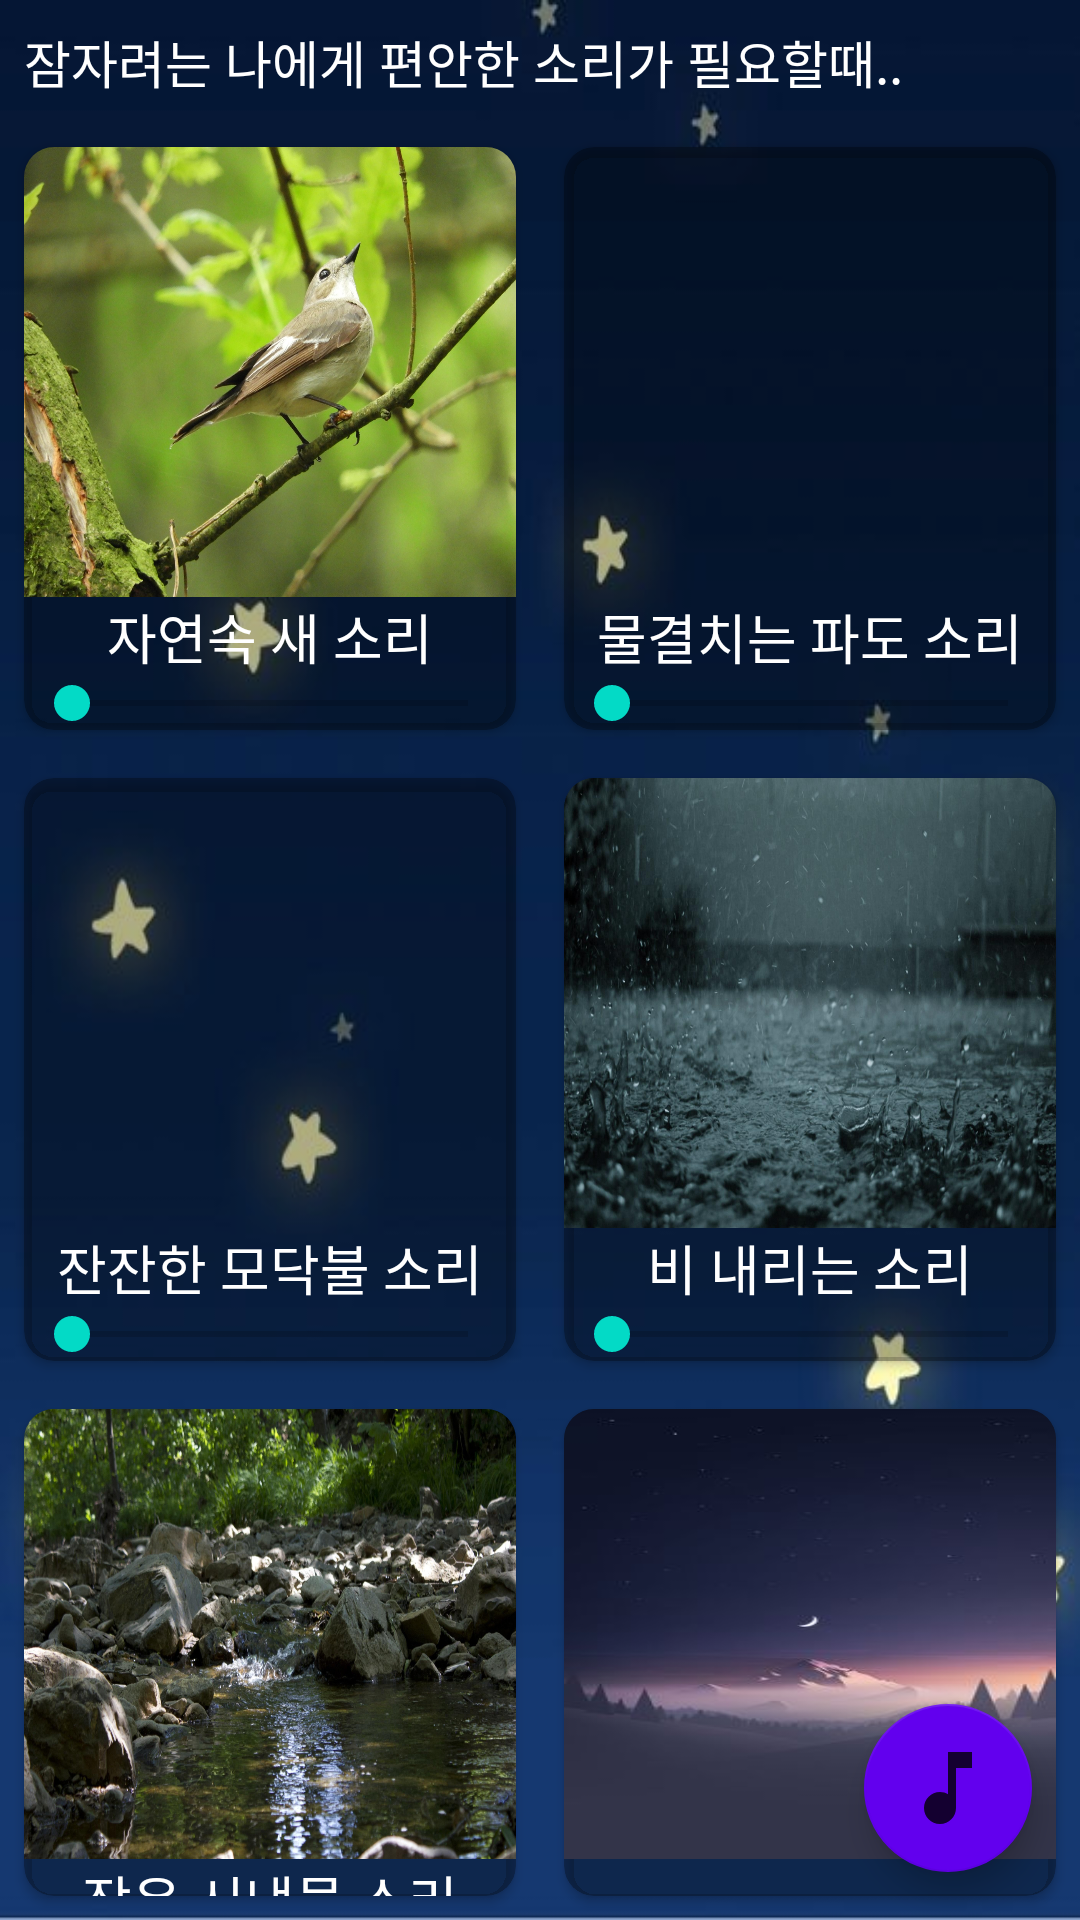

Icon click points for this 1080w x 1920h phone screenshot, format point (x, y):
add music: point (948, 1788)
